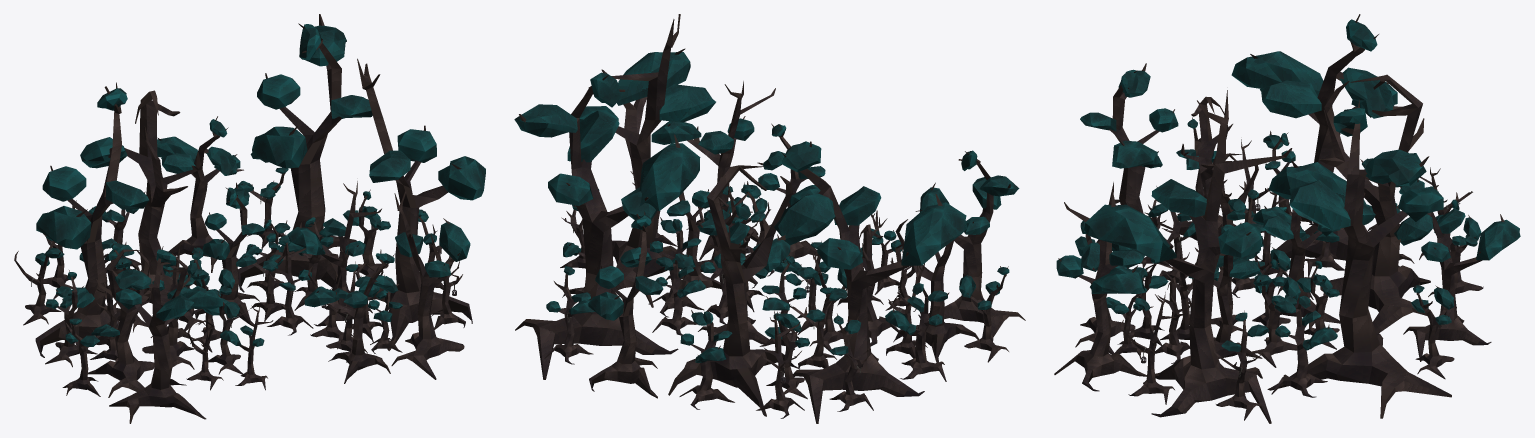
Rendered from grove.gltf.
The picture shows the model from 3 angles, left to right: view 1: azimuth 30°, elevation 25°; view 2: azimuth 150°, elevation 25°; view 3: azimuth 270°, elevation 25°; orthographic projection. The views are drawn at different scales.
Visible parts, largest first — view 1: Grove; view 2: Grove; view 3: Grove.
Boxes of the visible parts, x1,y1,x2,y2 form: Grove: (14,14,485,423); Grove: (514,14,1025,423); Grove: (1054,14,1520,423).
Bounding box in the file's own units: 20.43 × 13.15 × 18.64.
Materials: 1 (1 with a texture image).
